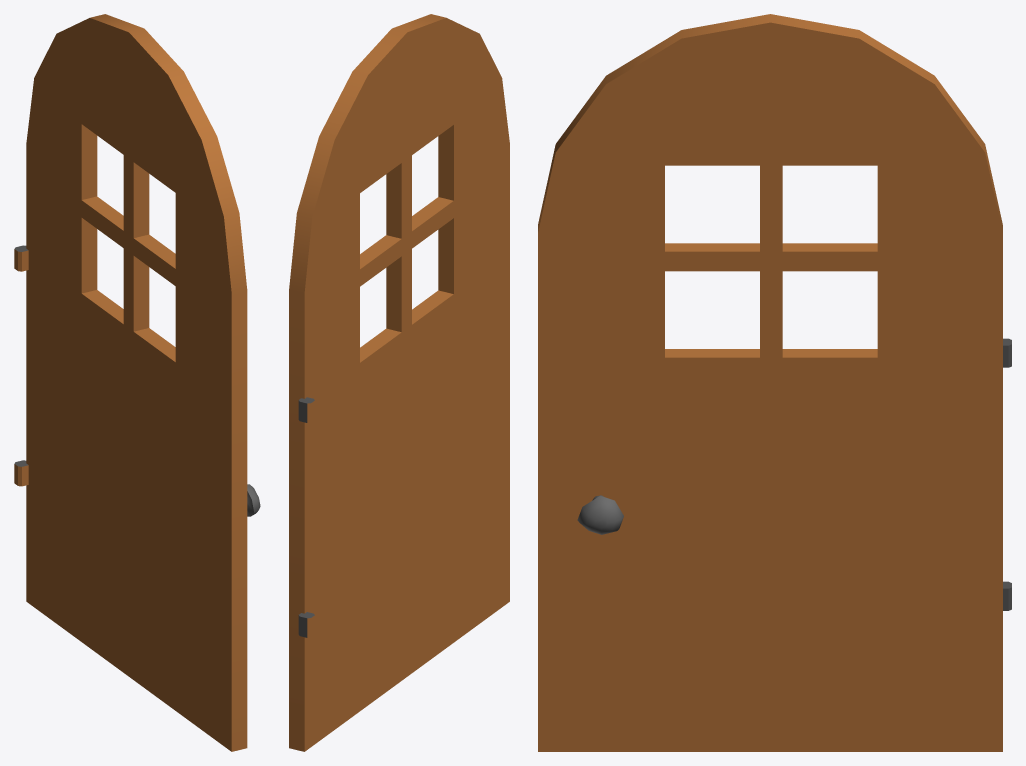
The model's file is Door.fbx.
3 views of the same model, side by side, from view 1: azimuth 30°, elevation 25°; view 2: azimuth 150°, elevation 25°; view 3: azimuth 270°, elevation 25° (orthographic). The views are drawn at different scales.
Visible parts, largest first — view 1: door; view 2: door; view 3: door.
Boxes of the visible parts, x1,y1,x2,y2 form: door: [14, 14, 260, 751]; door: [289, 14, 509, 751]; door: [538, 14, 1011, 751].
Size of the model in its own units: 0.2332 by 2.31 by 1.36.
